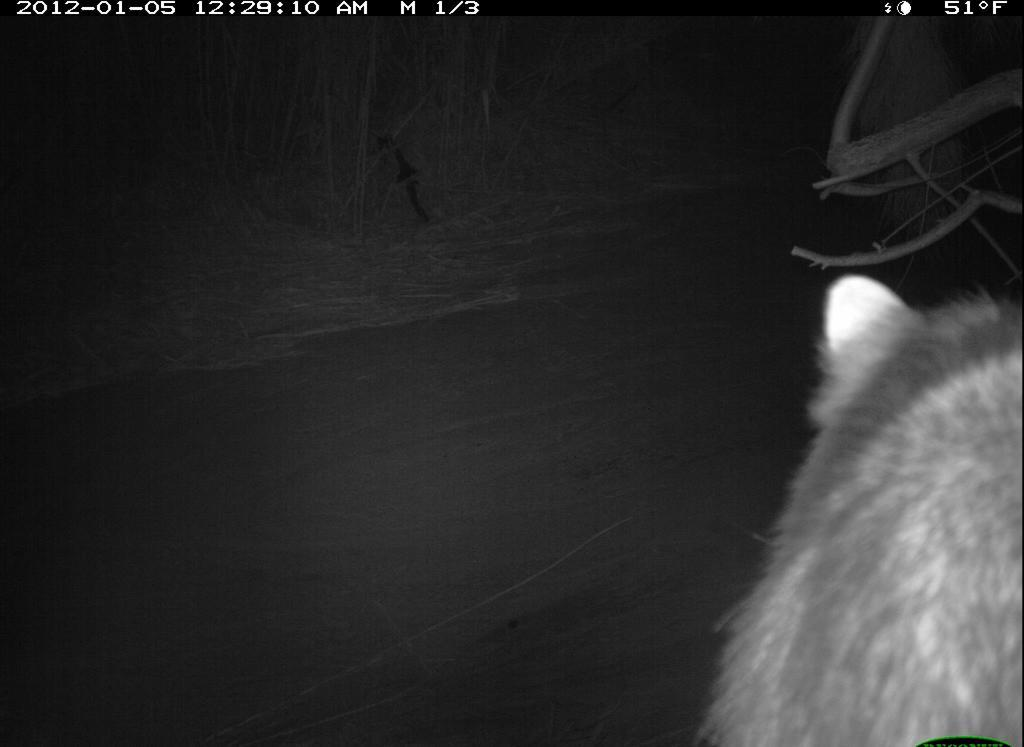raccoon: (676, 253, 1022, 747)
